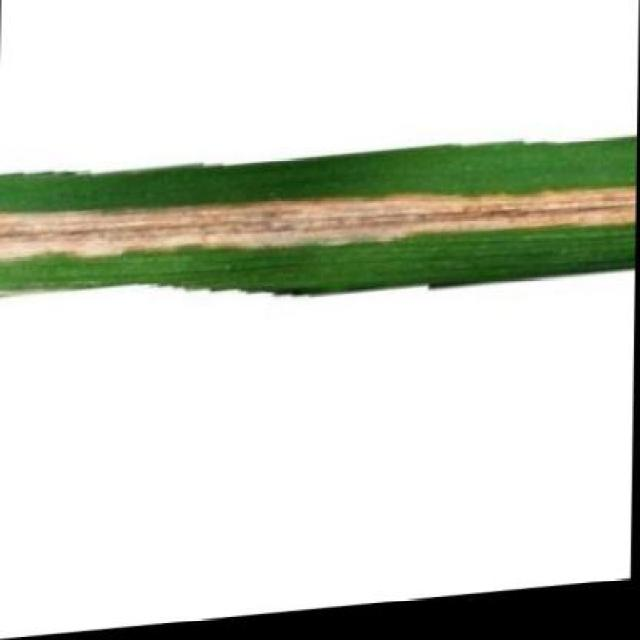Brown_Spot: (0, 121, 638, 341)
